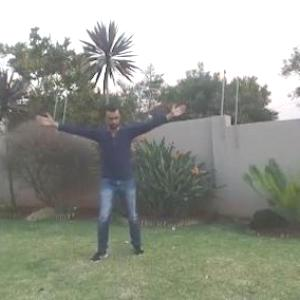takeoff: (25, 96, 168, 267)
